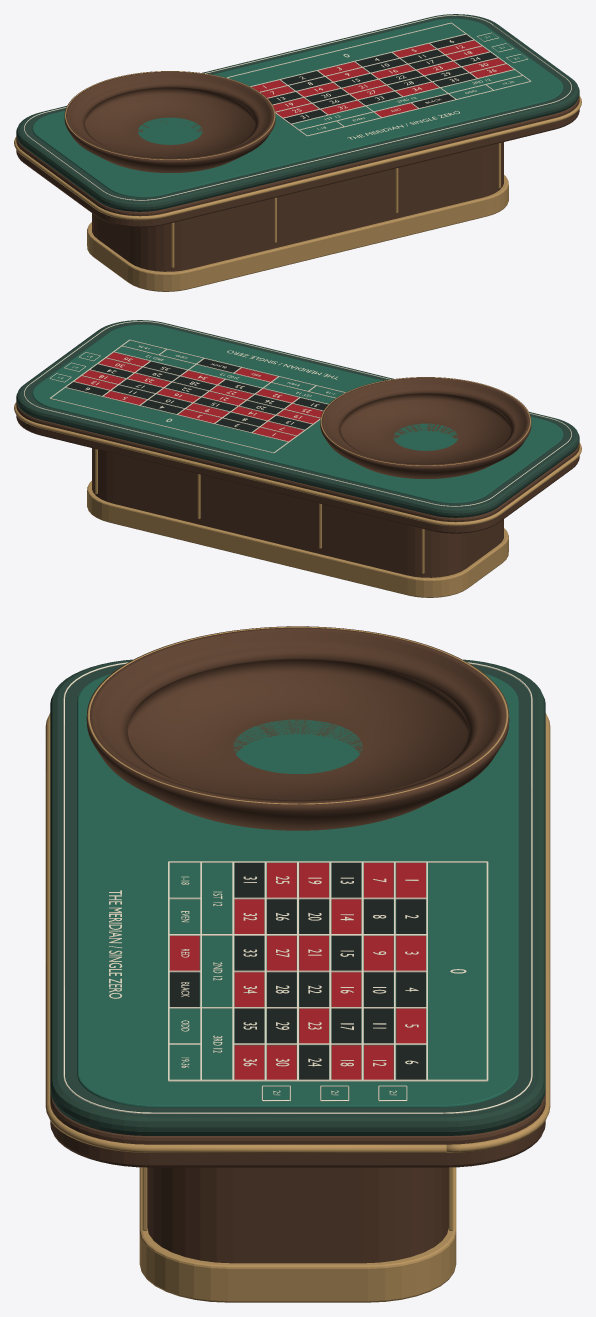
File: roulette-table.glb
The picture shows the model from 3 angles, top to bottom: view 1: azimuth 30°, elevation 25°; view 2: azimuth 150°, elevation 25°; view 3: azimuth 270°, elevation 25°; orthographic projection. The views are drawn at different scales.
Parts seen in each view (by area): view 1: Meridian walnut, Meridian gaming felt, Meridian brushed bronze, Meridian evergreen upholstery, Meridian ivory marking, Meridian charcoal, Meridian roulette red; view 2: Meridian walnut, Meridian gaming felt, Meridian brushed bronze, Meridian evergreen upholstery, Meridian ivory marking, Meridian roulette red, Meridian charcoal; view 3: Meridian walnut, Meridian gaming felt, Meridian evergreen upholstery, Meridian brushed bronze, Meridian charcoal, Meridian roulette red, Meridian ivory marking.
Boxes of the visible parts, left/top/right/bottom form: Meridian walnut: left=16, top=71, right=579, bottom=271; Meridian gaming felt: left=32, top=18, right=563, bottom=197; Meridian brushed bronze: left=14, top=71, right=581, bottom=291; Meridian evergreen upholstery: left=16, top=14, right=579, bottom=211; Meridian ivory marking: left=24, top=15, right=571, bottom=200; Meridian charcoal: left=268, top=34, right=496, bottom=123; Meridian roulette red: left=251, top=40, right=513, bottom=117; Meridian walnut: left=16, top=377, right=579, bottom=577; Meridian gaming felt: left=32, top=324, right=563, bottom=503; Meridian brushed bronze: left=14, top=377, right=581, bottom=597; Meridian evergreen upholstery: left=16, top=320, right=579, bottom=517; Meridian ivory marking: left=24, top=321, right=571, bottom=506; Meridian roulette red: left=75, top=352, right=322, bottom=441; Meridian charcoal: left=66, top=359, right=327, bottom=432; Meridian walnut: left=50, top=626, right=545, bottom=1263; Meridian gaming felt: left=77, top=673, right=518, bottom=1107; Meridian evergreen upholstery: left=50, top=659, right=545, bottom=1135; Meridian brushed bronze: left=45, top=626, right=550, bottom=1302; Meridian charcoal: left=170, top=863, right=425, bottom=1079; Meridian roulette red: left=170, top=863, right=425, bottom=1079; Meridian ivory marking: left=63, top=662, right=532, bottom=1113.
Bounding box in the file's own units: 5.14 × 1.44 × 2.34.
